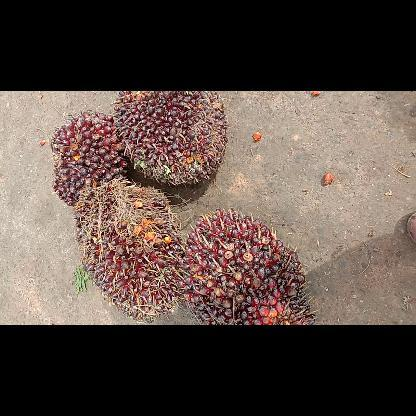Kurang masak: (174, 207, 318, 324), (74, 180, 183, 322), (112, 90, 228, 184), (51, 109, 129, 205)
